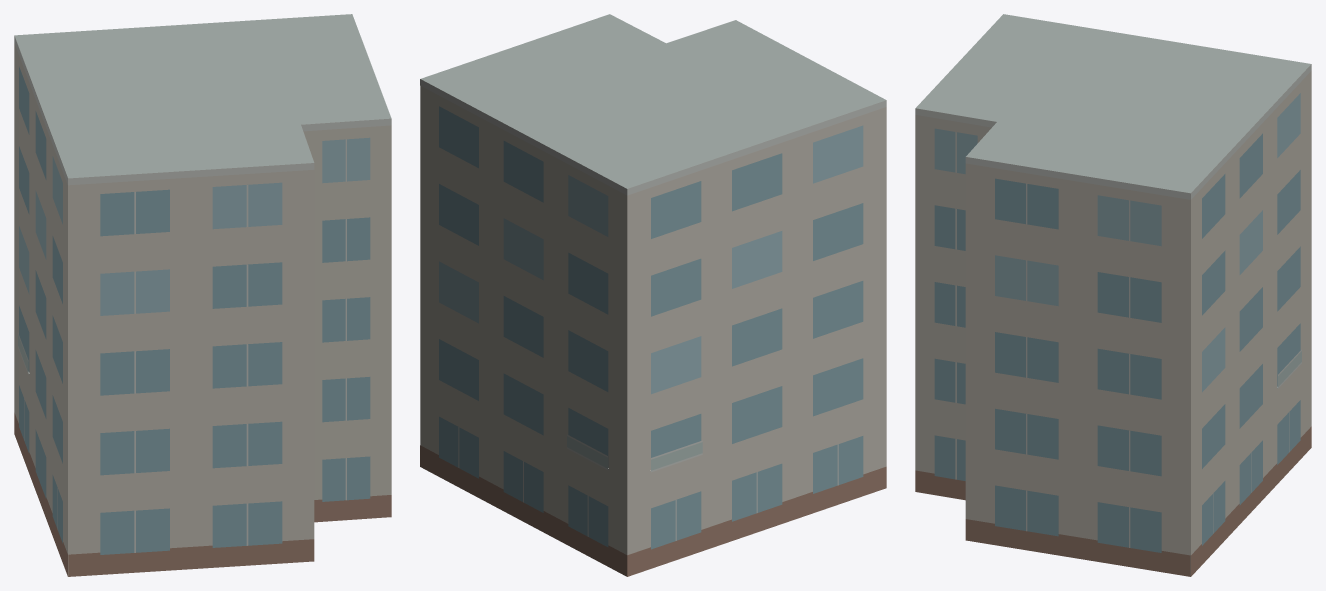
File: survey-upis-32869333.glb
3 renders of one model, left to right at view 1: azimuth 30°, elevation 25°; view 2: azimuth 150°, elevation 25°; view 3: azimuth 270°, elevation 25°, orthographic. The views are drawn at different scales.
Visible parts, largest first — view 1: survey-upis-32869333.tmp; view 2: survey-upis-32869333.tmp; view 3: survey-upis-32869333.tmp.
Boxes of the visible parts, <box> form: survey-upis-32869333.tmp: <box>14,14,391,576</box>; survey-upis-32869333.tmp: <box>420,14,886,576</box>; survey-upis-32869333.tmp: <box>915,14,1311,576</box>.
Size of the model in its own units: 14.3 by 14.25 by 13.35.
